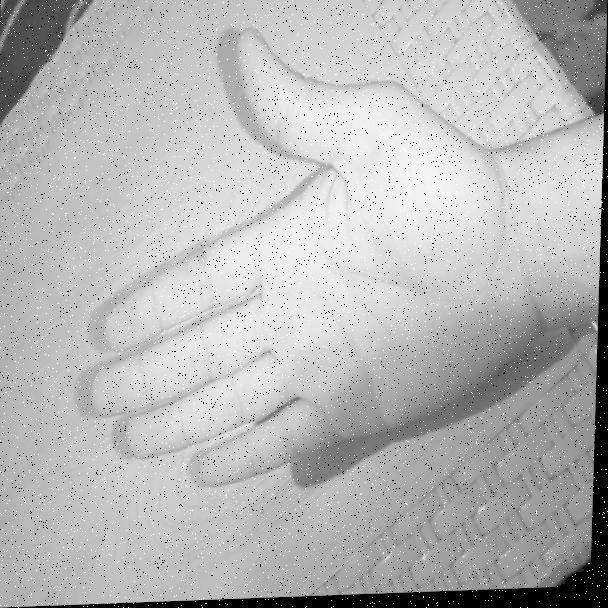five: (80, 33, 547, 500)
